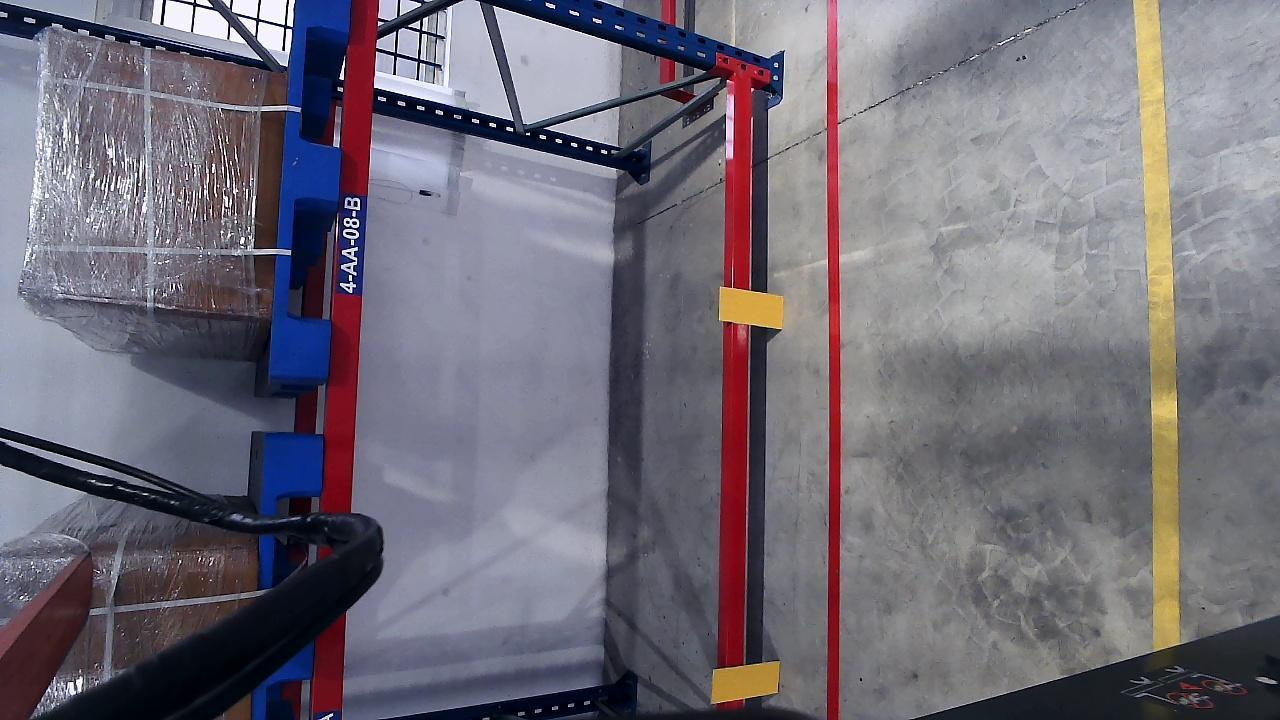red_line: (822, 2, 844, 720)
yellow_line: (1135, 0, 1181, 646)
